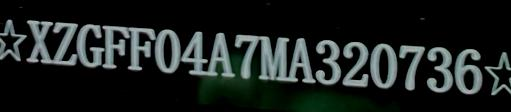letter: (453, 39, 487, 96), (256, 30, 293, 82), (123, 21, 160, 72), (205, 26, 238, 79), (423, 39, 456, 92), (339, 35, 371, 89), (369, 38, 402, 90), (395, 40, 428, 92), (287, 31, 318, 85), (24, 15, 56, 67), (313, 32, 344, 85), (99, 19, 131, 70), (48, 19, 81, 68), (152, 24, 185, 73), (230, 28, 261, 80), (75, 19, 106, 68), (179, 27, 210, 76)
